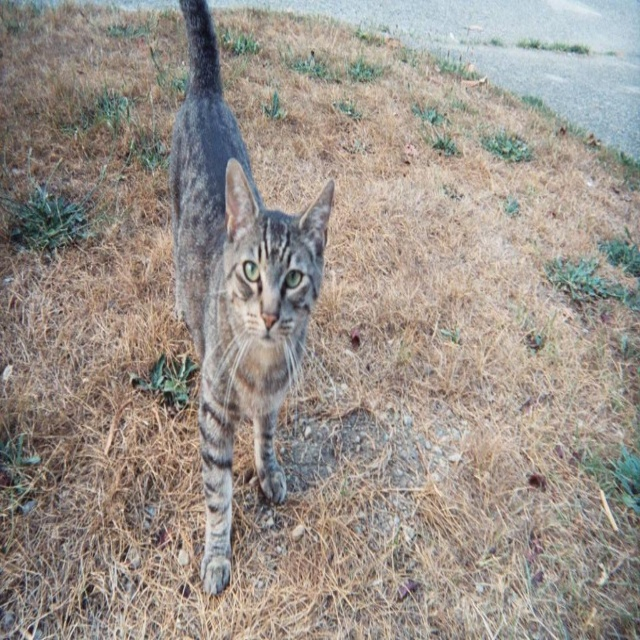Lynx: (168, 0, 335, 594)
